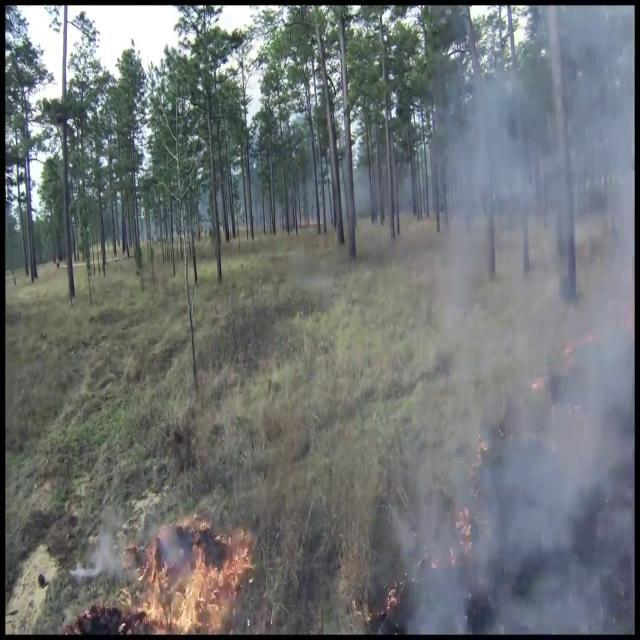Fire: (138, 517, 258, 634)
Smoke: (383, 14, 634, 630)
